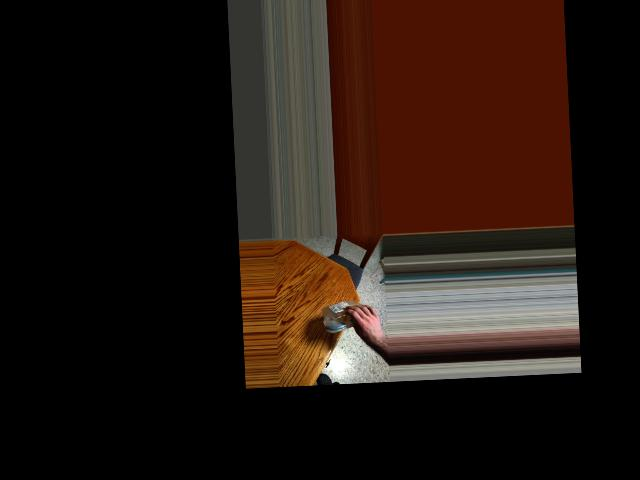cheese: (330, 298, 376, 336)
